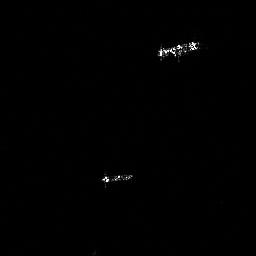ship: (156, 39, 201, 59), (99, 171, 135, 184)
